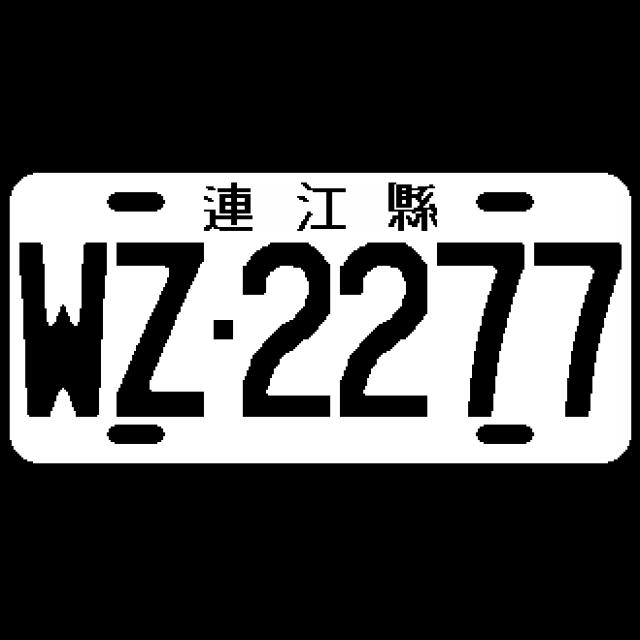plate: (7, 170, 635, 468)
